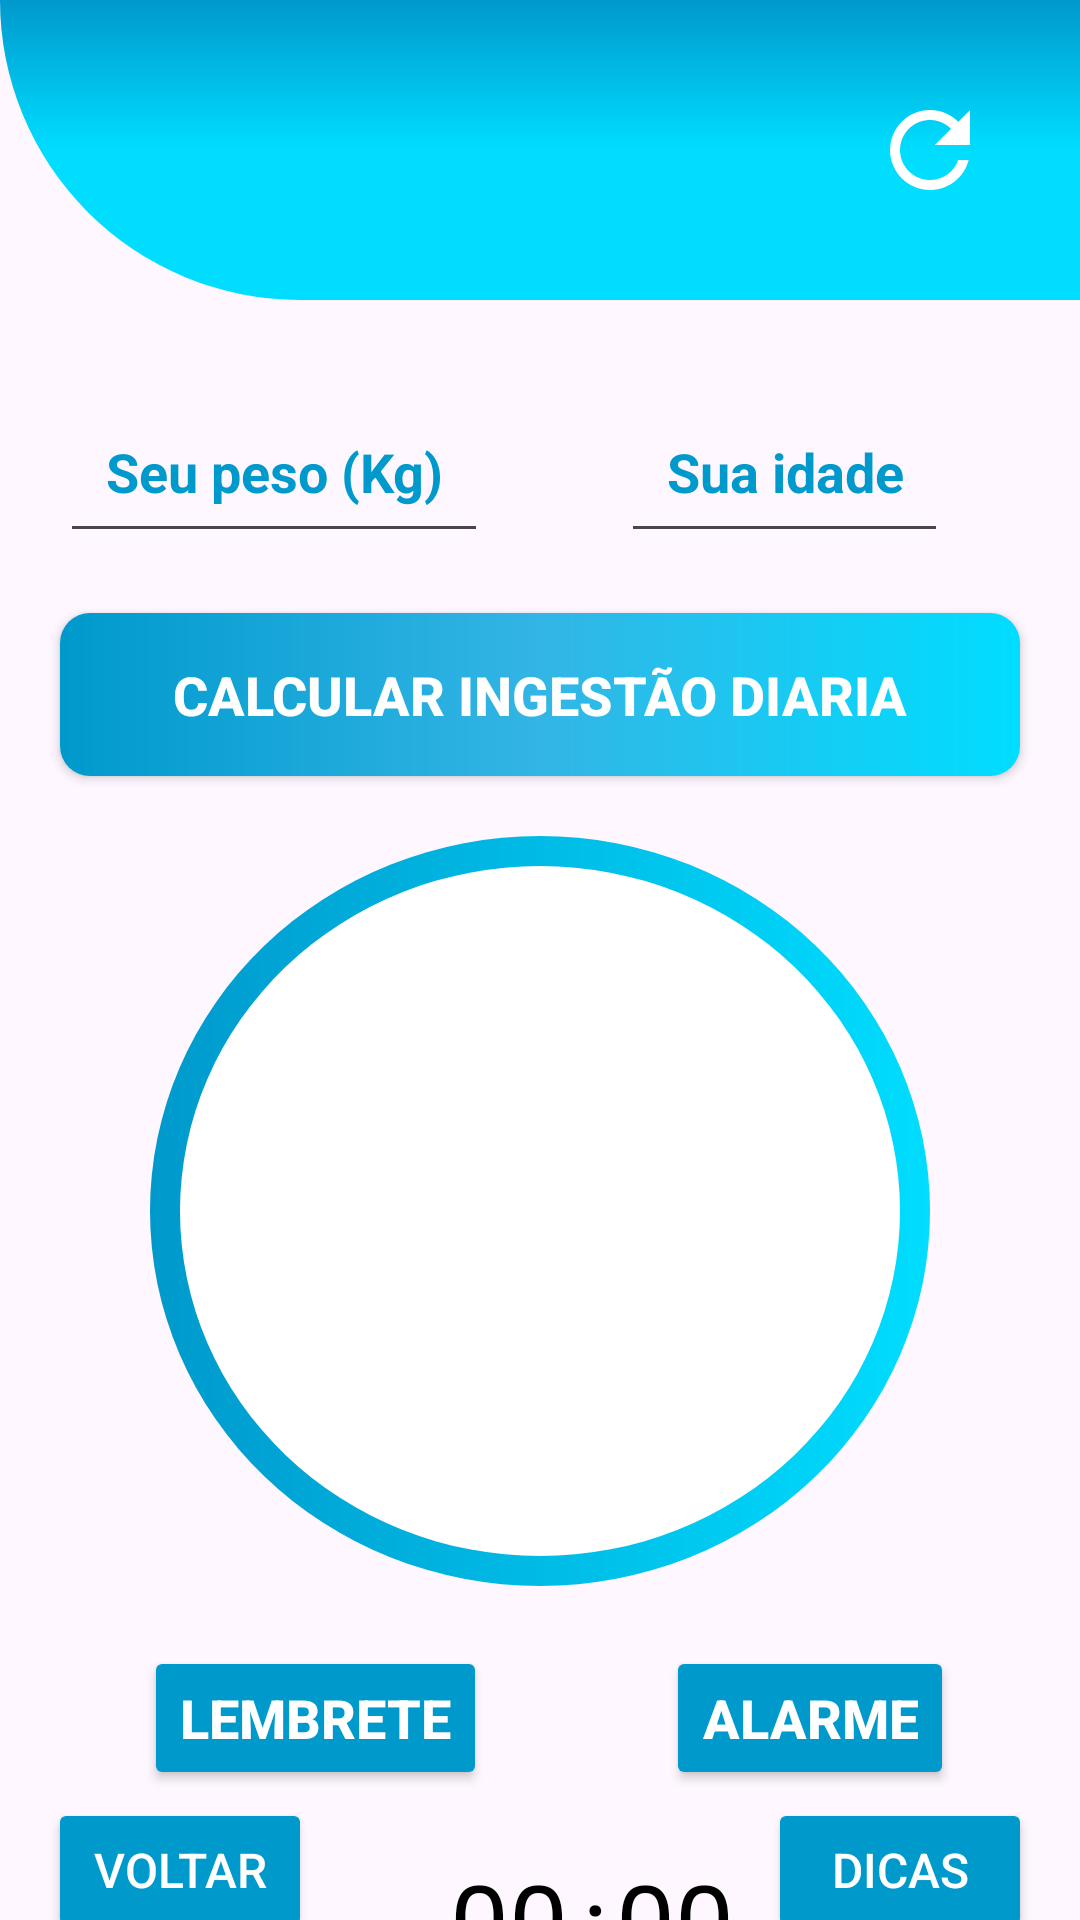

Point at icon controls on the screen. Image size 1080px x 1920px, points as point (x, y).
refresh: point (930, 150)
